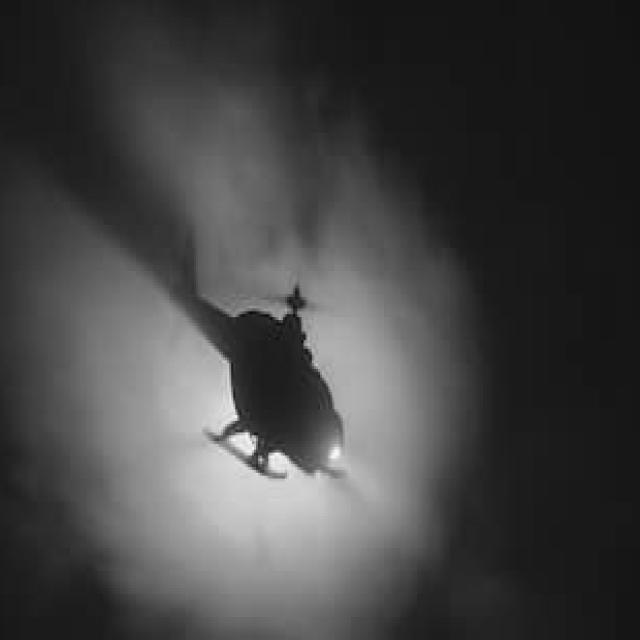helicopter: (160, 211, 379, 497)
